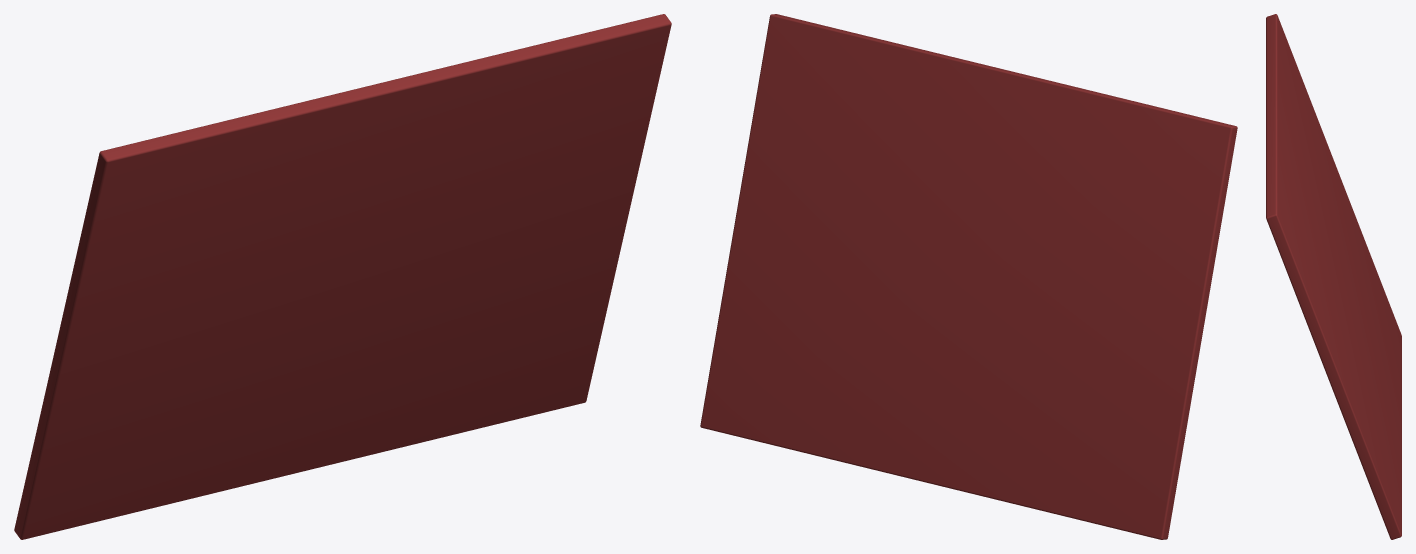
File: album 2.gltf
3 renders of one model, left to right at view 1: azimuth 30°, elevation 25°; view 2: azimuth 150°, elevation 25°; view 3: azimuth 270°, elevation 25°, orthographic. The views are drawn at different scales.
Parts seen in each view (by area): view 1: Cube; view 2: Cube; view 3: Cube.
Boxes of the visible parts, box(x1,y1,x2,y2) form: Cube: box(14, 14, 671, 539); Cube: box(700, 14, 1237, 539); Cube: box(1266, 14, 1401, 539).
Size of the model in its own units: 0.636 by 0.4796 by 0.1811.
